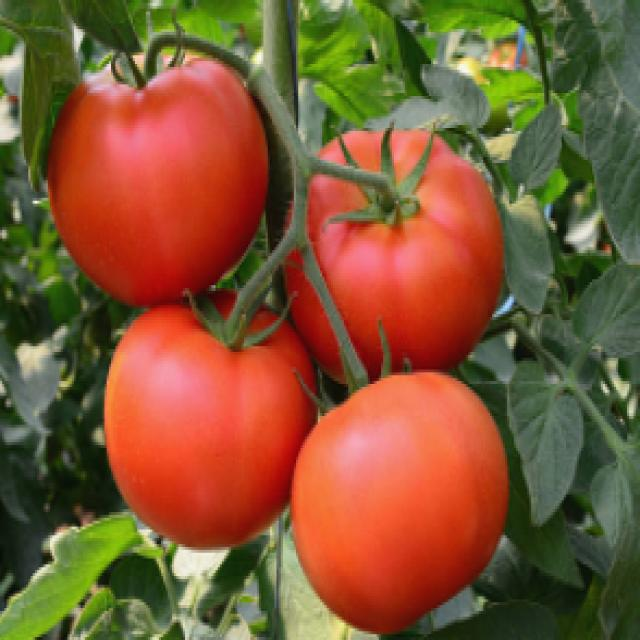Tomato: (304, 111, 524, 376), (281, 372, 505, 631), (89, 274, 315, 530), (58, 46, 268, 283)
